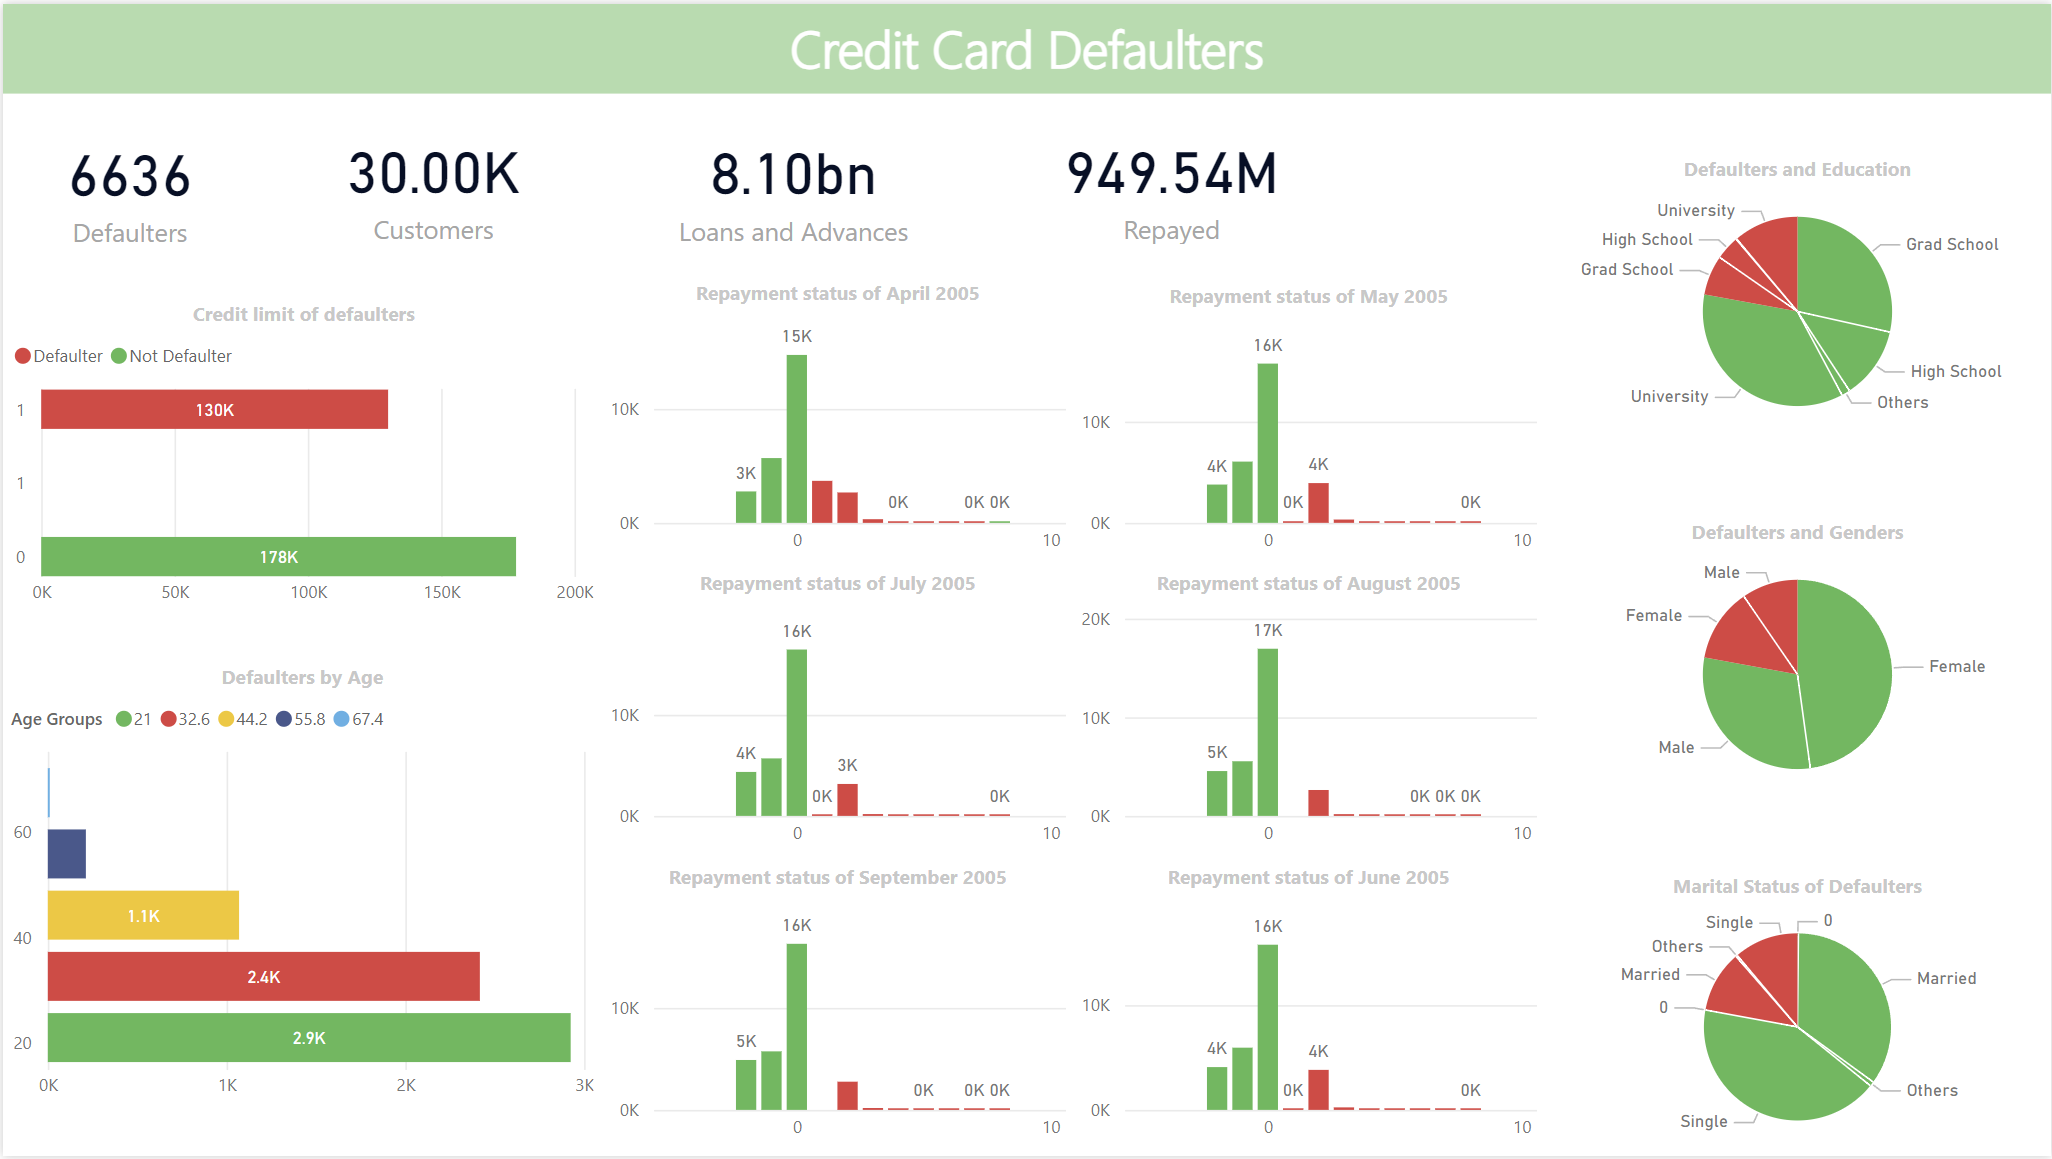

Layout of this report page (visuals, bound fields, positions):
{"tool":"powerbi","page":{"name":"Page 1","canvas":[1280,720],"ordinal":0},"visuals":[{"type":"textbox","box":[0,0,1280,56],"z":0},{"type":"card","fields":{"Values":["Data.Defaulters"]},"box":[0,69.9,158.7,88.8],"z":1000},{"type":"card","fields":{"Values":["CountNonNull(Data.ID)"]},"box":[189,69.9,160.6,85],"z":2000},{"type":"card","fields":{"Values":["Sum(Data.Total Bill)"]},"box":[408.2,71.8,172,83.2],"z":3000},{"type":"card","fields":{"Values":["Sum(Data.Total Paid Back)"]},"box":[644.4,69.9,172,85],"z":4000},{"type":"pieChart","title":"Defaulters and Education","fields":{"Category":["Data.Defaulter Status"],"Y":["CountNonNull(Data.EDUCATION)"],"Series":["Data.EDUCATION"]},"box":[963.8,94.5,315.6,179.5],"z":5000},{"type":"pieChart","title":"Defaulters and Genders","fields":{"Category":["Data.Defaulter Status"],"Series":["Data.Gender"],"Y":["CountNonNull(Data.Gender)"]},"box":[963.8,321.3,315.6,179.5],"z":6000},{"type":"pieChart","title":"Marital Status of Defaulters","fields":{"Category":["Data.Defaulter Status"],"Series":["Data.MARRIAGE"],"Y":["CountNonNull(Data.MARRIAGE)"]},"box":[963.8,542.4,315.6,177.6],"z":7000},{"type":"clusteredColumnChart","title":"Repayment status of April 2005","fields":{"Category":["Data.R_April 2005"],"Y":["CountNonNull(Data.R_April 2005)"]},"box":[374.2,172,294.8,181.4],"z":8000},{"type":"barChart","title":"Credit limit of defaulters","fields":{"Category":["Data.default payment next month"],"Y":["Avg(Data.LIMIT_BAL)"],"Series":["Data.Defaulter Status"]},"box":[1.9,185.2,372.3,200.3],"z":9000},{"type":"clusteredColumnChart","title":"Repayment status of May 2005","fields":{"Category":["Data.R_May 2005"],"Y":["CountNonNull(Data.R_May 2005)"]},"box":[669,173.9,294.8,179.5],"z":10000},{"type":"clusteredColumnChart","title":"Repayment status of June 2005","fields":{"Y":["CountNonNull(Data.R_June 2005)"],"Category":["Data.R_June 2005"]},"box":[669,536.7,294.8,183.3],"z":11000},{"type":"clusteredColumnChart","title":"Repayment status of July 2005","fields":{"Category":["Data.R_July 2005"],"Y":["CountNonNull(Data.R_July 2005)"]},"box":[374.2,353.4,294.8,183.3],"z":12000},{"type":"clusteredColumnChart","title":"Repayment status of August 2005","fields":{"Category":["Data.R_August 2005"],"Y":["CountNonNull(Data.R_August 2005)"]},"box":[669,353.4,294.8,183.3],"z":13000},{"type":"clusteredColumnChart","title":"Repayment status of September 2005","fields":{"Category":["Data.R_September 2005"],"Y":["CountNonNull(Data.R_September 2005)"]},"box":[374.2,536.7,294.8,183.3],"z":14000},{"type":"barChart","title":"Defaulters by Age","fields":{"Y":["Sum(Data.default payment next month)"],"Category":["Data.AGE (bins)"],"Series":["Data.AGE (bins)"]},"box":[0,412,374.2,281.6],"z":15000}]}

Visuals, with their boxes in screenshot pixels (x1, y1, x2, y2), scaled from the page's 1280x720 canvas onto the 2052x1159 screenshot:
textbox: box(0, 0, 2051, 90)
card - Data.Defaulters: box(0, 113, 254, 255)
card - CountNonNull(Data.ID): box(303, 113, 560, 249)
card - Sum(Data.Total Bill): box(654, 116, 930, 250)
card - Sum(Data.Total Paid Back): box(1033, 113, 1309, 249)
"Defaulters and Education" pieChart: box(1545, 152, 2051, 441)
"Defaulters and Genders" pieChart: box(1545, 517, 2051, 806)
"Marital Status of Defaulters" pieChart: box(1545, 873, 2051, 1158)
"Repayment status of April 2005" clusteredColumnChart: box(600, 277, 1072, 569)
"Credit limit of defaulters" barChart: box(3, 298, 600, 621)
"Repayment status of May 2005" clusteredColumnChart: box(1072, 280, 1545, 569)
"Repayment status of June 2005" clusteredColumnChart: box(1072, 864, 1545, 1158)
"Repayment status of July 2005" clusteredColumnChart: box(600, 569, 1072, 864)
"Repayment status of August 2005" clusteredColumnChart: box(1072, 569, 1545, 864)
"Repayment status of September 2005" clusteredColumnChart: box(600, 864, 1072, 1158)
"Defaulters by Age" barChart: box(0, 663, 600, 1117)
